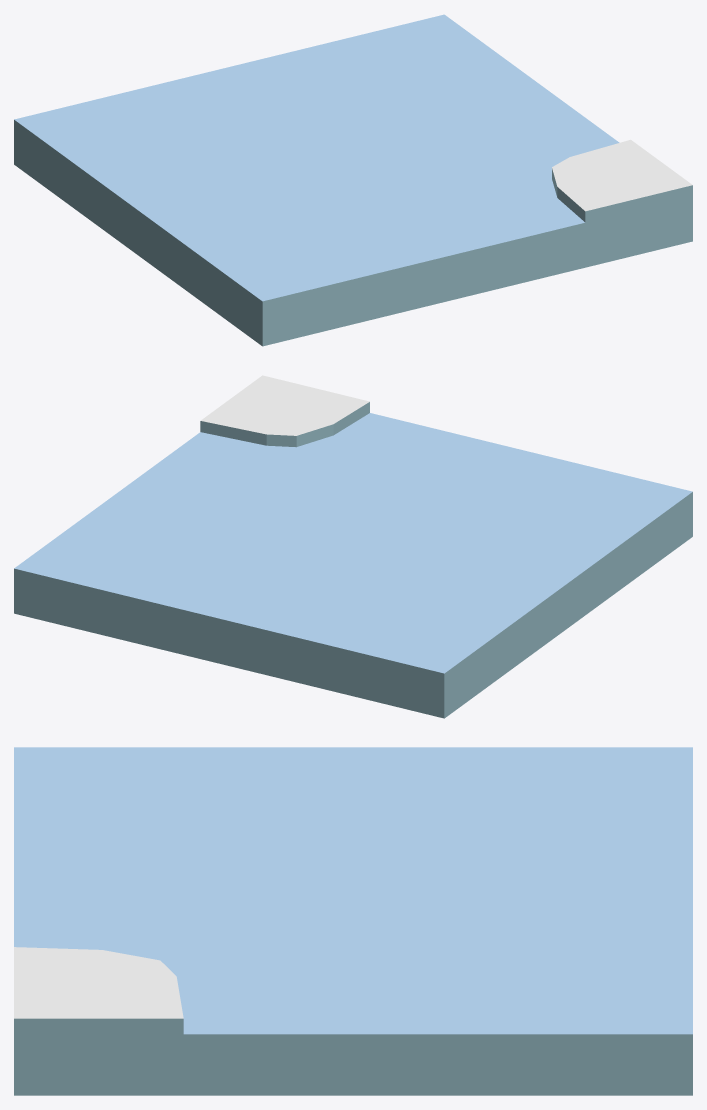
The model's file is Terrain_Tile_Ice_Snow_Water_Bank_Corner_06.fbx.
3 views of the same model, one above another, from view 1: azimuth 30°, elevation 25°; view 2: azimuth 150°, elevation 25°; view 3: azimuth 270°, elevation 25° (orthographic). The views are drawn at different scales.
Visible parts, largest first — view 1: Terrain_Tile_Ice_Snow_Water_Bank_Corner_06; view 2: Terrain_Tile_Ice_Snow_Water_Bank_Corner_06; view 3: Terrain_Tile_Ice_Snow_Water_Bank_Corner_06.
Boxes of the visible parts, x1=… form: Terrain_Tile_Ice_Snow_Water_Bank_Corner_06: x1=14, y1=14, x2=692, y2=346; Terrain_Tile_Ice_Snow_Water_Bank_Corner_06: x1=14, y1=375, x2=692, y2=718; Terrain_Tile_Ice_Snow_Water_Bank_Corner_06: x1=14, y1=747, x2=692, y2=1095.
Size of the model in its own units: 126 by 15.75 by 126.
